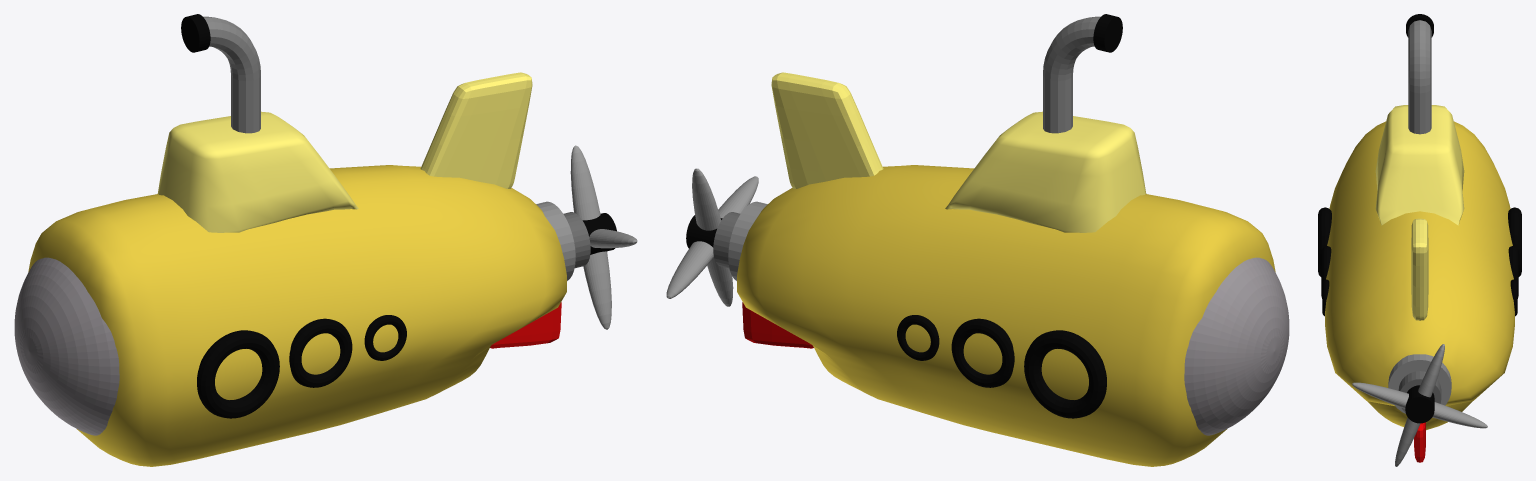
Rendered from Yellow_Sub.fbx.
3 renders of one model, left to right at view 1: azimuth 30°, elevation 25°; view 2: azimuth 150°, elevation 25°; view 3: azimuth 270°, elevation 25°, orthographic. The views are drawn at different scales.
Visible parts, largest first — view 1: Cube_14, Cube.003_11, Sphere_0, Cube.002_4, Torus_8, Torus.003_12, Sphere.001_6, Torus.001_9, Cube.001_1, Cylinder_2, Torus.002_10, Cylinder.003_13 (+2 smaller); view 2: Cube_14, Cube.003_11, Sphere_0, Cube.002_4, Torus_8, Torus.003_12, Torus.001_9, Sphere.002_7, Sphere.001_6, Cube.001_1, Cylinder_2, Torus.002_10 (+2 smaller); view 3: Cube_14, Cube.003_11, Torus.003_12, Cube.002_4, Sphere.002_7, Cylinder_2, Torus_8, Sphere.001_6, Cylinder.002_5, Torus.001_9, Cylinder.001_3, Cube.001_1 (+2 smaller).
Part boxes in pixels (bbox=[...]): Cube_14: bbox=[28, 165, 566, 466]; Cube.003_11: bbox=[157, 111, 358, 232]; Sphere_0: bbox=[14, 257, 119, 435]; Cube.002_4: bbox=[420, 72, 532, 188]; Torus_8: bbox=[197, 330, 279, 418]; Torus.003_12: bbox=[203, 16, 260, 133]; Sphere.001_6: bbox=[570, 145, 611, 329]; Torus.001_9: bbox=[289, 318, 352, 387]; Cube.001_1: bbox=[490, 302, 561, 348]; Cylinder_2: bbox=[536, 201, 575, 280]; Torus.002_10: bbox=[364, 315, 406, 360]; Cylinder.003_13: bbox=[181, 14, 210, 52]; Cube_14: bbox=[737, 165, 1275, 466]; Cube.003_11: bbox=[945, 111, 1146, 232]; Sphere_0: bbox=[1184, 257, 1289, 435]; Cube.002_4: bbox=[771, 72, 883, 188]; Torus_8: bbox=[1024, 330, 1106, 418]; Torus.003_12: bbox=[1043, 16, 1100, 133]; Torus.001_9: bbox=[951, 318, 1014, 387]; Sphere.002_7: bbox=[666, 176, 758, 298]; Sphere.001_6: bbox=[692, 168, 733, 306]; Cube.001_1: bbox=[742, 302, 813, 348]; Cylinder_2: bbox=[728, 201, 767, 280]; Torus.002_10: bbox=[897, 315, 939, 360]; Cube_14: bbox=[1325, 121, 1514, 430]; Cube.003_11: bbox=[1375, 105, 1464, 225]; Torus.003_12: bbox=[1408, 20, 1431, 134]; Cube.002_4: bbox=[1411, 218, 1428, 320]; Sphere.002_7: bbox=[1352, 382, 1487, 428]; Cylinder_2: bbox=[1388, 354, 1451, 413]; Torus_8: bbox=[1318, 207, 1521, 276]; Sphere.001_6: bbox=[1395, 344, 1444, 466]; Cylinder.002_5: bbox=[1405, 385, 1434, 423]; Torus.001_9: bbox=[1321, 246, 1518, 298]; Cylinder.001_3: bbox=[1398, 371, 1441, 412]; Cube.001_1: bbox=[1414, 422, 1425, 462].
Size of the model in its own units: 467 by 334 by 187.
